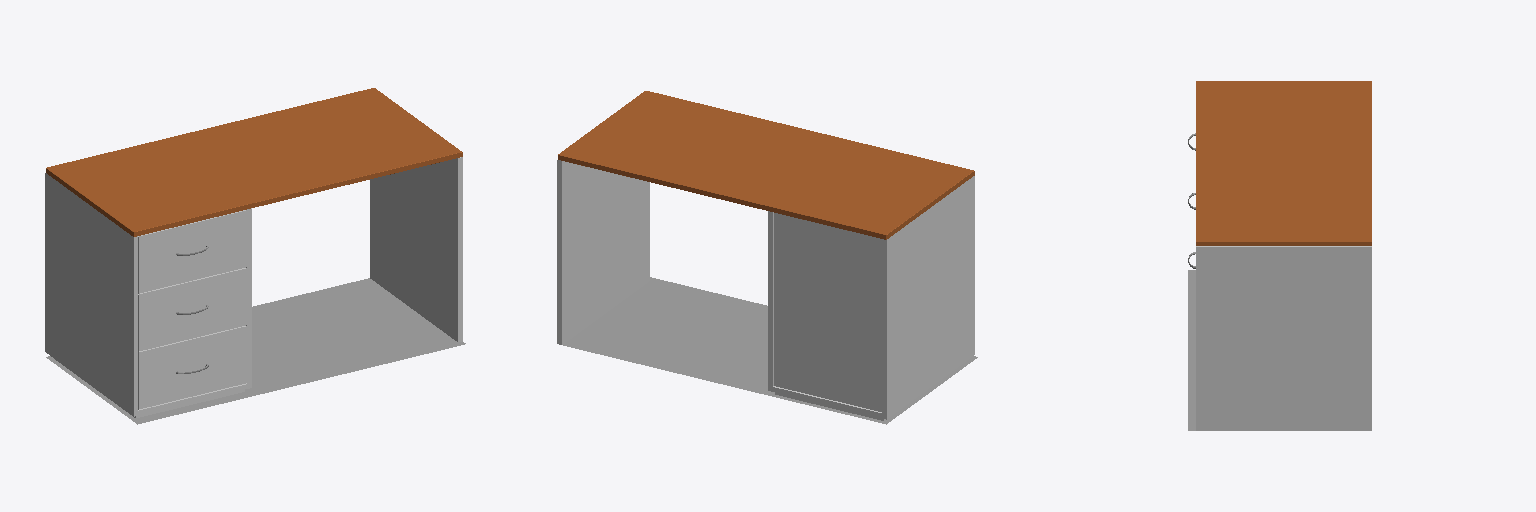
The model's file is escritorio.obj.
The picture shows the model from 3 angles: view 1: azimuth 30°, elevation 25°; view 2: azimuth 150°, elevation 25°; view 3: azimuth 270°, elevation 25°; orthographic projection.
Parts seen in each view (by area): view 1: Bottom_2, Desk_3, ground_1, sweethome3d_opening_on_rail_3_drawer_10, sweethome3d_opening_on_rail_2_drawer_8, sweethome3d_opening_on_rail_1_drawer_5; view 2: Bottom_2, Desk_3, ground_1; view 3: Bottom_2, Desk_3, ground_1.
Boxes of the visible parts, <box> form: Bottom_2: <box>45,157,462,416</box>; Desk_3: <box>46,88,462,236</box>; ground_1: <box>46,278,465,424</box>; sweethome3d_opening_on_rail_3_drawer_10: <box>138,326,246,409</box>; sweethome3d_opening_on_rail_2_drawer_8: <box>138,268,246,351</box>; sweethome3d_opening_on_rail_1_drawer_5: <box>138,210,246,293</box>; Bottom_2: <box>557,160,974,419</box>; Desk_3: <box>558,91,974,239</box>; ground_1: <box>563,277,977,424</box>; Bottom_2: <box>1196,246,1371,430</box>; Desk_3: <box>1196,81,1371,245</box>; ground_1: <box>1188,270,1195,430</box>.
Size of the model in its own units: 140 by 77 by 67.8.